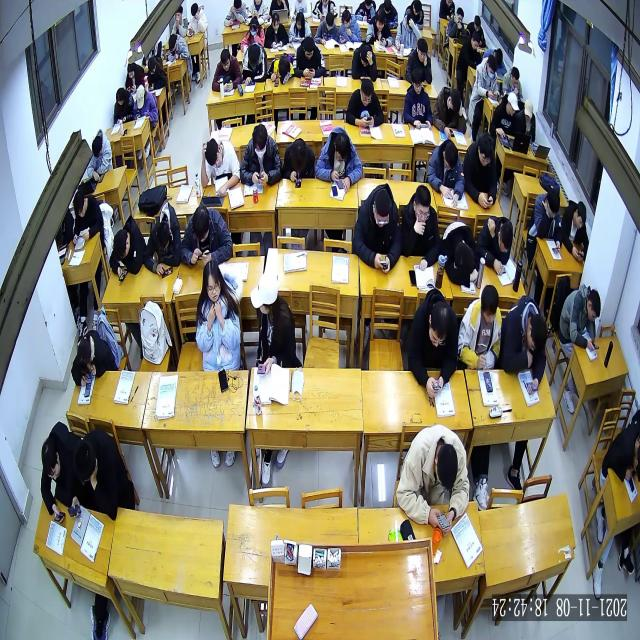bow: (500, 293, 546, 393), (180, 207, 232, 265), (144, 201, 182, 274), (560, 282, 600, 349), (440, 219, 478, 286), (427, 138, 464, 206), (109, 214, 146, 281), (70, 329, 115, 384), (599, 426, 640, 481), (478, 215, 513, 274), (432, 86, 467, 138), (267, 56, 294, 85), (165, 33, 191, 61), (224, 1, 246, 24)
down: (434, 444, 458, 492), (428, 300, 452, 347), (74, 445, 96, 481), (41, 441, 60, 479), (527, 314, 547, 350), (372, 189, 390, 228), (481, 285, 498, 326), (413, 186, 431, 223), (193, 206, 209, 242), (252, 124, 268, 158), (478, 132, 494, 165), (497, 220, 513, 252), (334, 132, 350, 163), (113, 230, 130, 258), (206, 140, 222, 169), (587, 290, 601, 322), (155, 221, 170, 250), (77, 340, 91, 370), (443, 142, 458, 170), (359, 78, 373, 106), (292, 137, 305, 165), (547, 190, 560, 218), (575, 201, 586, 229), (73, 192, 85, 216), (448, 88, 460, 112), (506, 93, 518, 117), (248, 44, 261, 66), (411, 70, 422, 95), (487, 55, 498, 80), (135, 85, 146, 110), (417, 39, 428, 62), (523, 98, 534, 121), (91, 136, 102, 159), (360, 45, 372, 66), (303, 37, 314, 59), (375, 9, 385, 31), (220, 49, 230, 71), (406, 12, 415, 32), (342, 10, 352, 28), (510, 66, 519, 86), (168, 34, 177, 51), (326, 11, 334, 30), (271, 12, 279, 30), (250, 18, 258, 36), (456, 6, 464, 24), (148, 58, 156, 75), (190, 4, 199, 19), (116, 90, 124, 106), (296, 11, 303, 29), (474, 14, 481, 32), (126, 63, 134, 78), (471, 36, 478, 50), (232, 1, 240, 13)
lookup: (204, 262, 222, 303), (175, 7, 182, 20)
sit: (396, 425, 470, 537), (66, 429, 134, 522), (406, 289, 458, 397), (250, 273, 302, 375), (195, 260, 241, 370), (352, 182, 401, 272), (457, 285, 501, 369), (40, 421, 76, 521), (315, 126, 362, 194), (402, 186, 439, 270), (240, 124, 282, 186), (468, 54, 499, 137), (464, 134, 497, 208), (200, 138, 240, 196), (527, 189, 562, 252), (345, 78, 384, 126), (403, 70, 431, 130), (561, 199, 587, 260), (72, 193, 104, 240), (282, 137, 315, 181), (293, 37, 326, 78), (87, 129, 113, 181), (212, 48, 242, 90), (405, 38, 433, 82), (490, 94, 519, 136), (242, 41, 267, 84), (132, 85, 157, 127), (352, 41, 378, 80), (366, 10, 393, 46), (263, 12, 289, 48), (456, 34, 481, 70), (338, 10, 362, 44), (314, 12, 339, 44), (240, 17, 264, 50), (518, 98, 535, 142), (502, 66, 523, 101), (114, 86, 134, 122), (187, 2, 208, 36), (146, 58, 168, 90), (465, 14, 486, 46), (289, 13, 311, 42), (125, 61, 145, 90), (447, 6, 465, 36), (170, 6, 187, 35)
